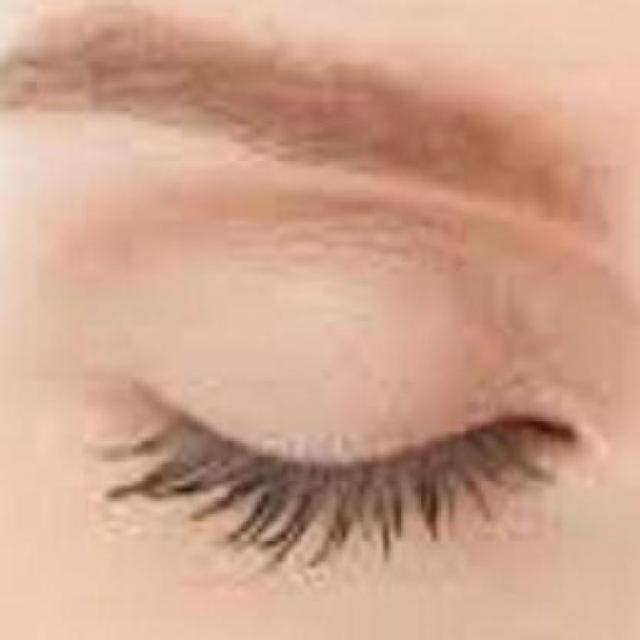drowsy: (123, 276, 572, 622)
